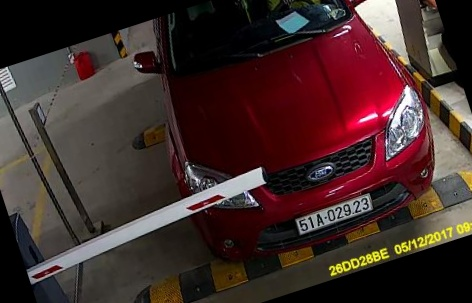plate: (291, 194, 376, 240)
